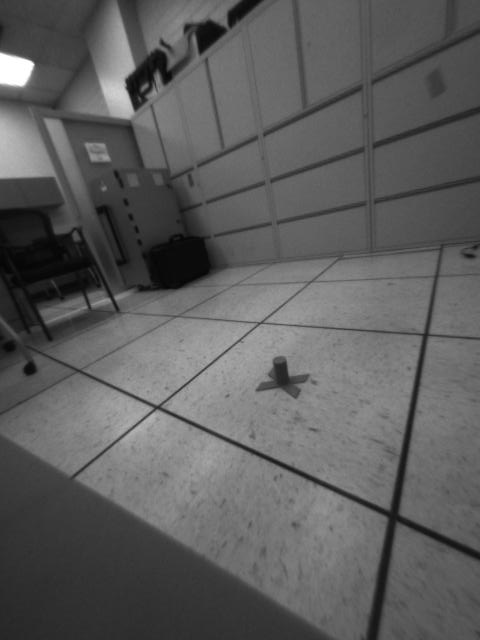X: (253, 355, 310, 397)
